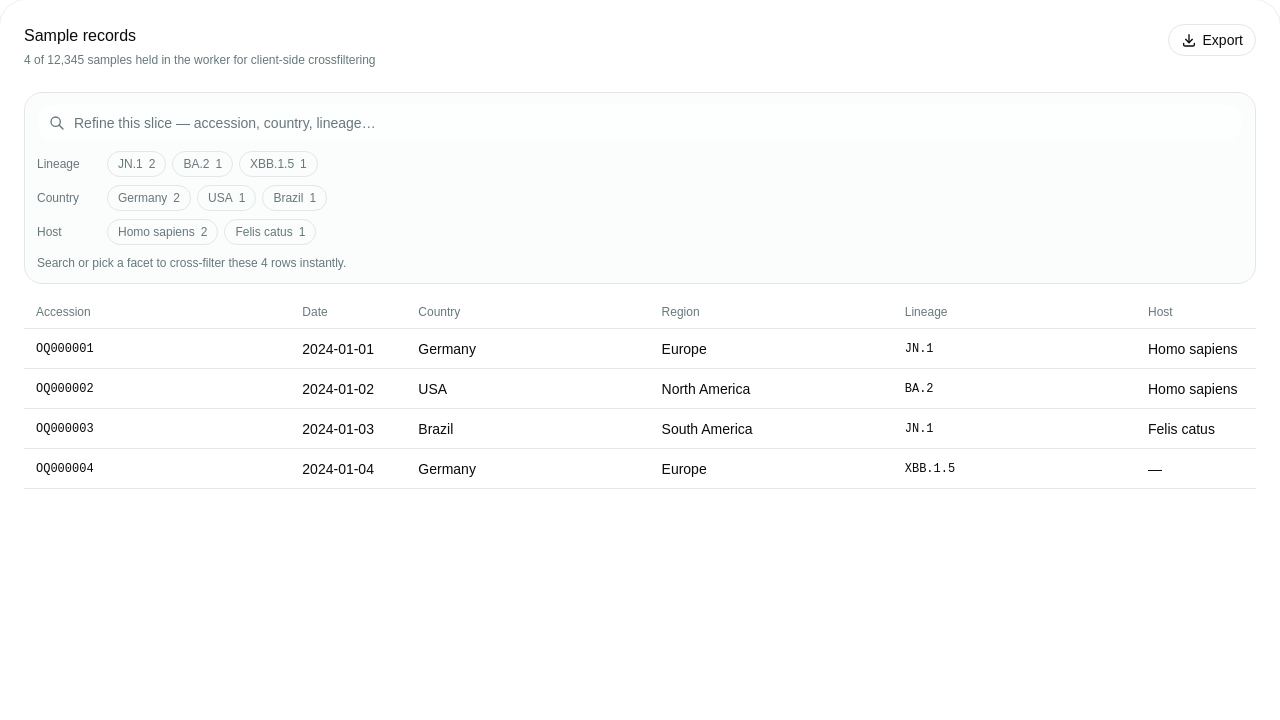
Scenario: SampleTable (with the real crossfilter engine in-process) › toggles facet chips and shows an empty refinement state
Expected: the text "OQ000001" is shown, [36,342,94,356]
Click the button "USA 1".
click(227, 198)  # box [197,185,256,211]
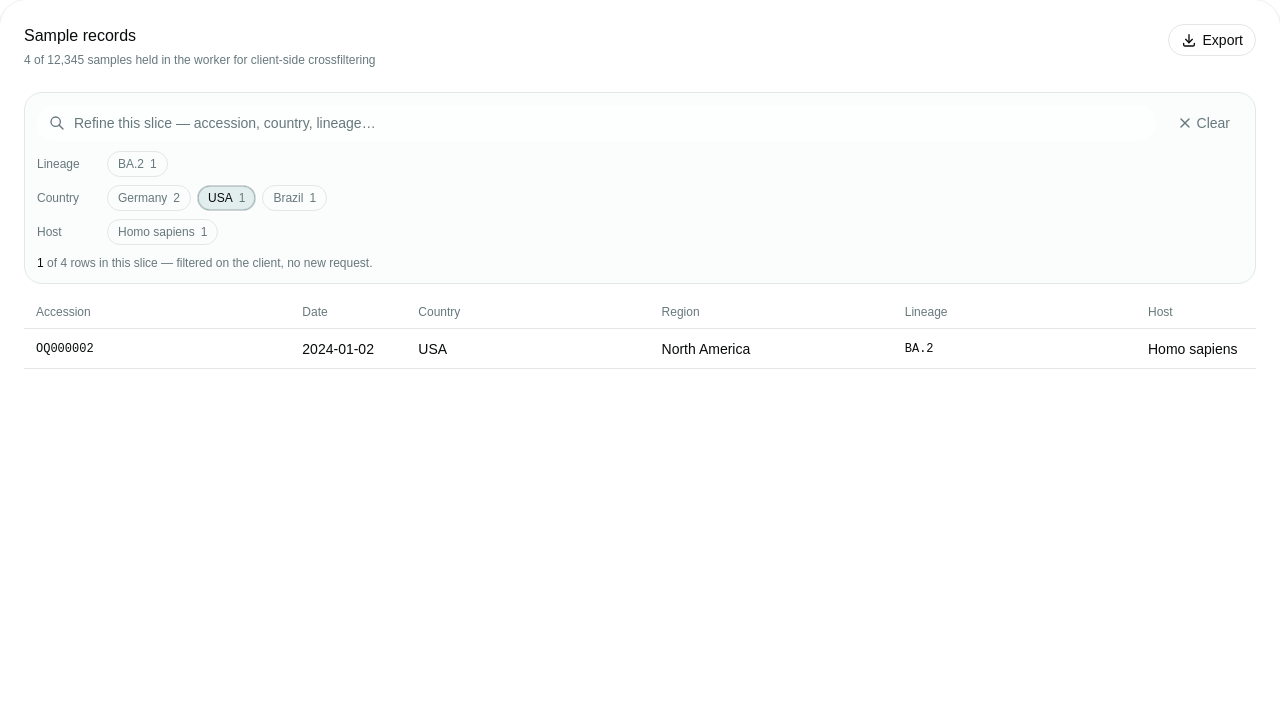
Expected: the text "OQ000002" is shown, [36,342,94,356]
Now the button "USA 1" is pressed, box [197,185,256,211]
Type "zzz" into the field named "Refine samples".
click(596, 123); type("zzz")  # box [37,105,1156,141]
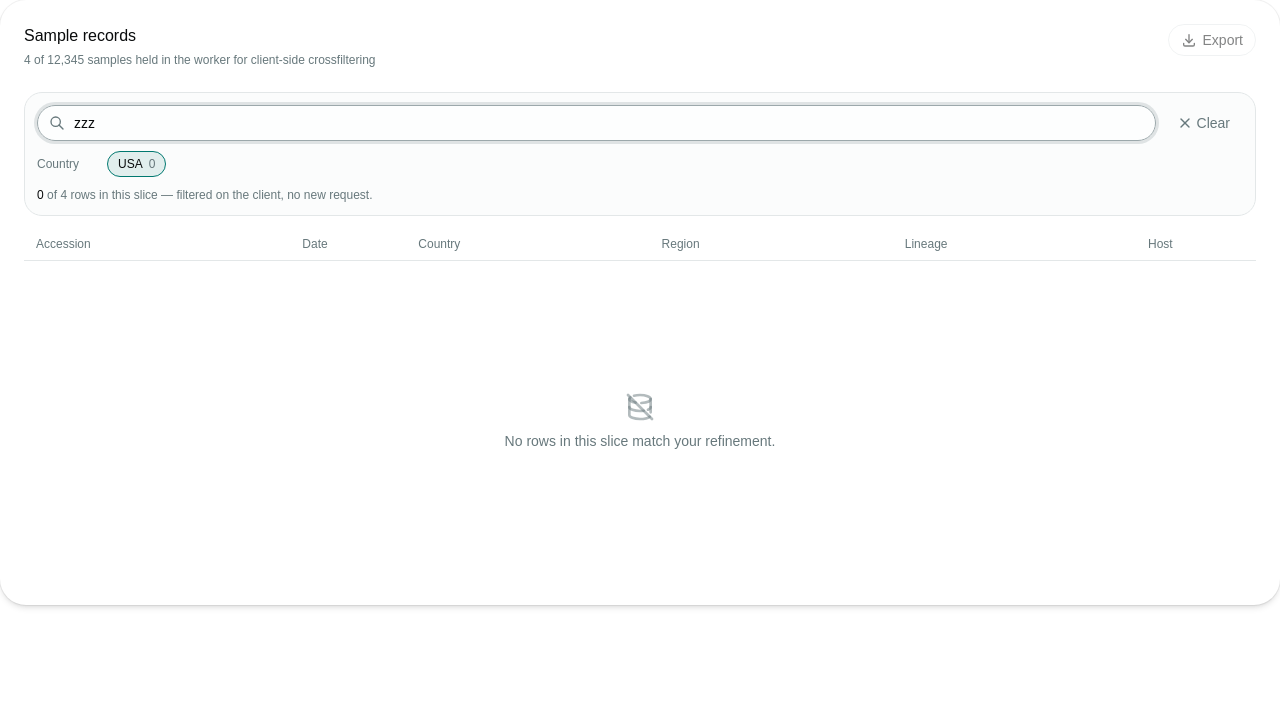
Now the text "No rows in this slice match your refinement." is shown, box [505,431,775,451]
